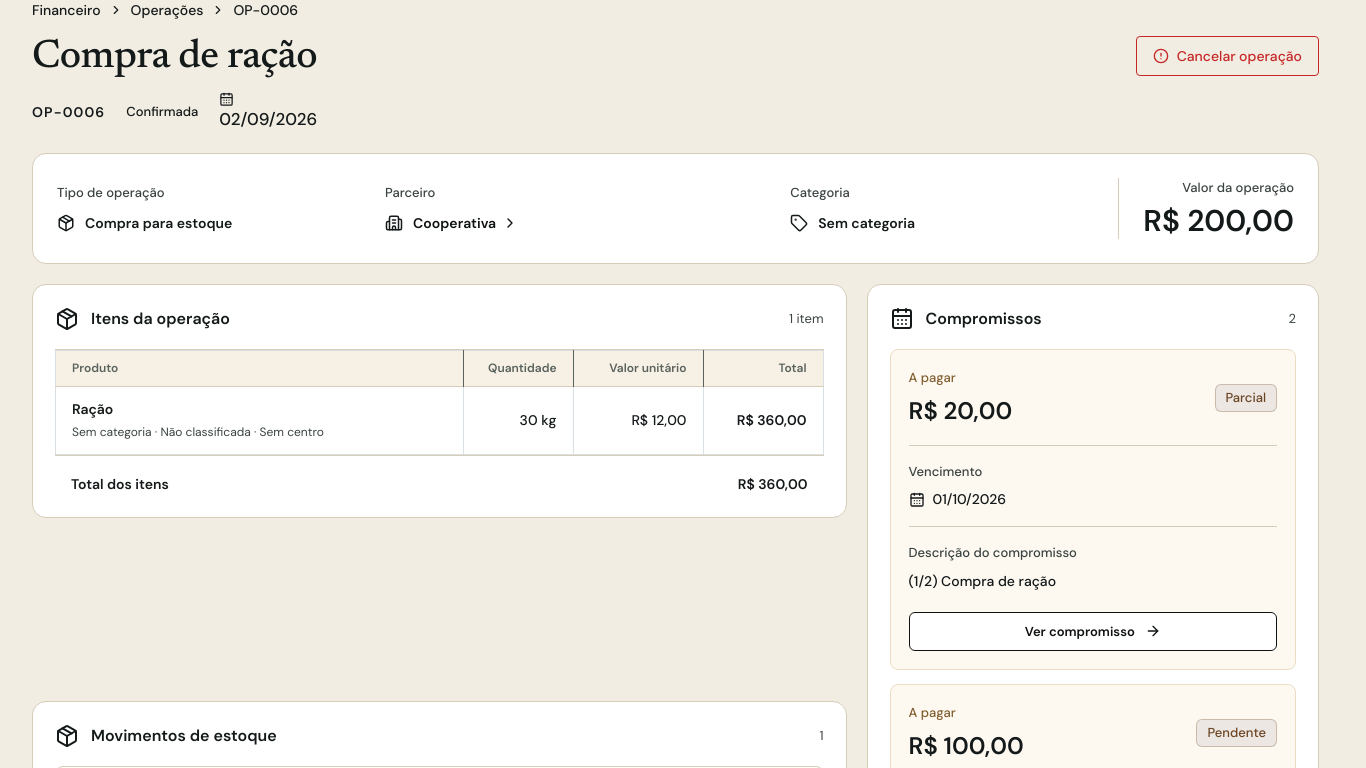
Test: OperacaoFinanceiraDetalhe — detalhe da parcela › estorna a liquidação com motivo e fecha o detalhe após recarregar
Expected: the heading "Compra de ração" is shown, x1=32 y1=38 x2=317 y2=78
Click the button "(1/2) Compra de ração" at (1093, 510), box x1=890 y1=349 x2=1296 y2=670
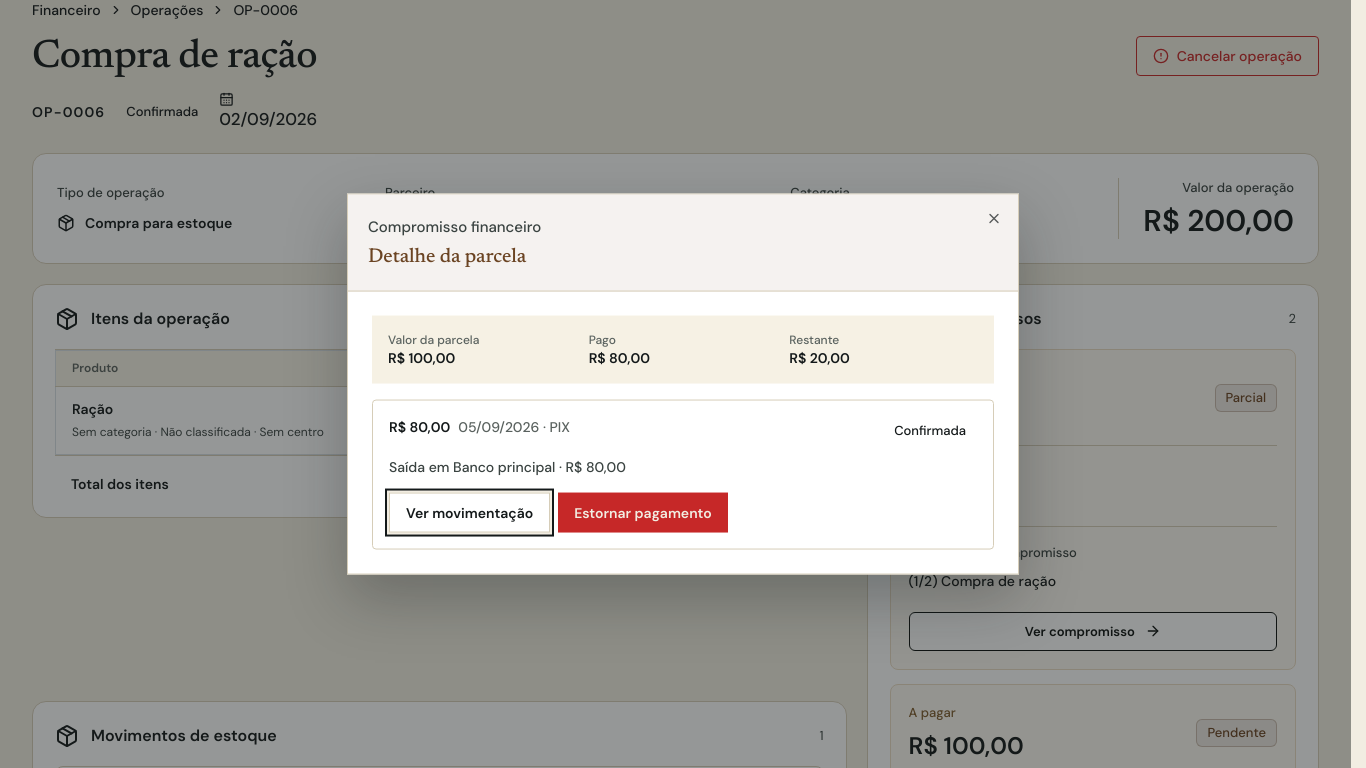
Click the button "Estornar pagamento" at (643, 512), box x1=558 y1=492 x2=728 y2=532
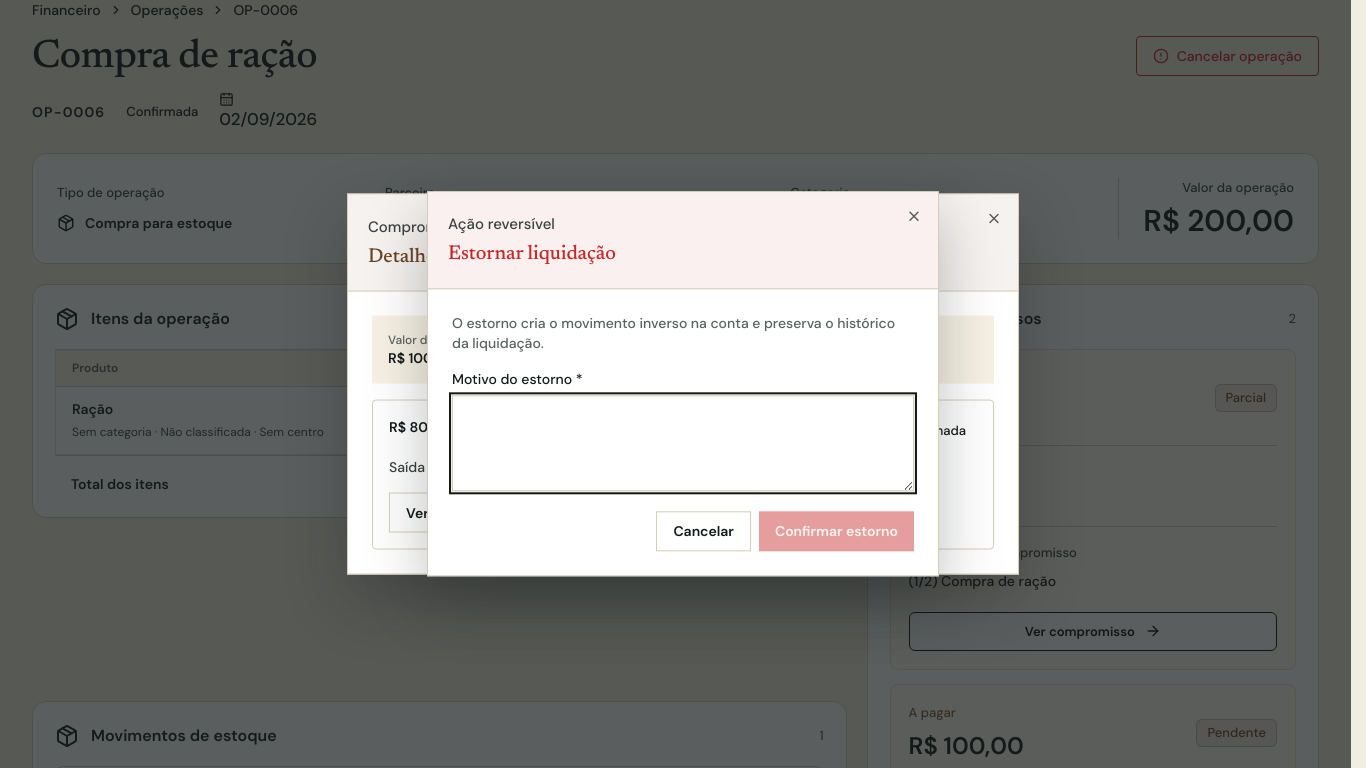
Expected: the button "Confirmar estorno" is disabled, x1=759 y1=512 x2=914 y2=552
Type "Pagamento em duplicidade" into the text box labelled "Motivo do estorno" at (683, 444), box x1=452 y1=396 x2=914 y2=492
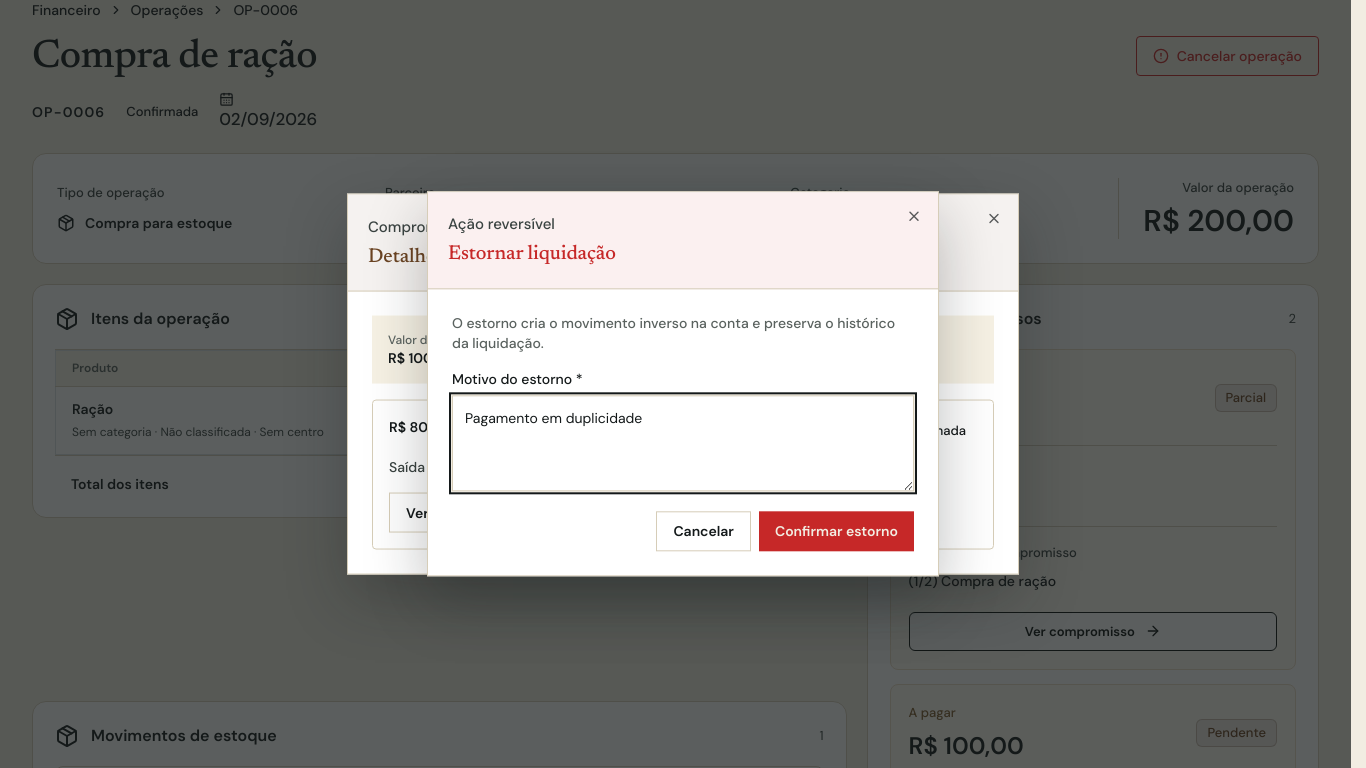
Click the button "Confirmar estorno" at (836, 532), box x1=759 y1=512 x2=914 y2=552
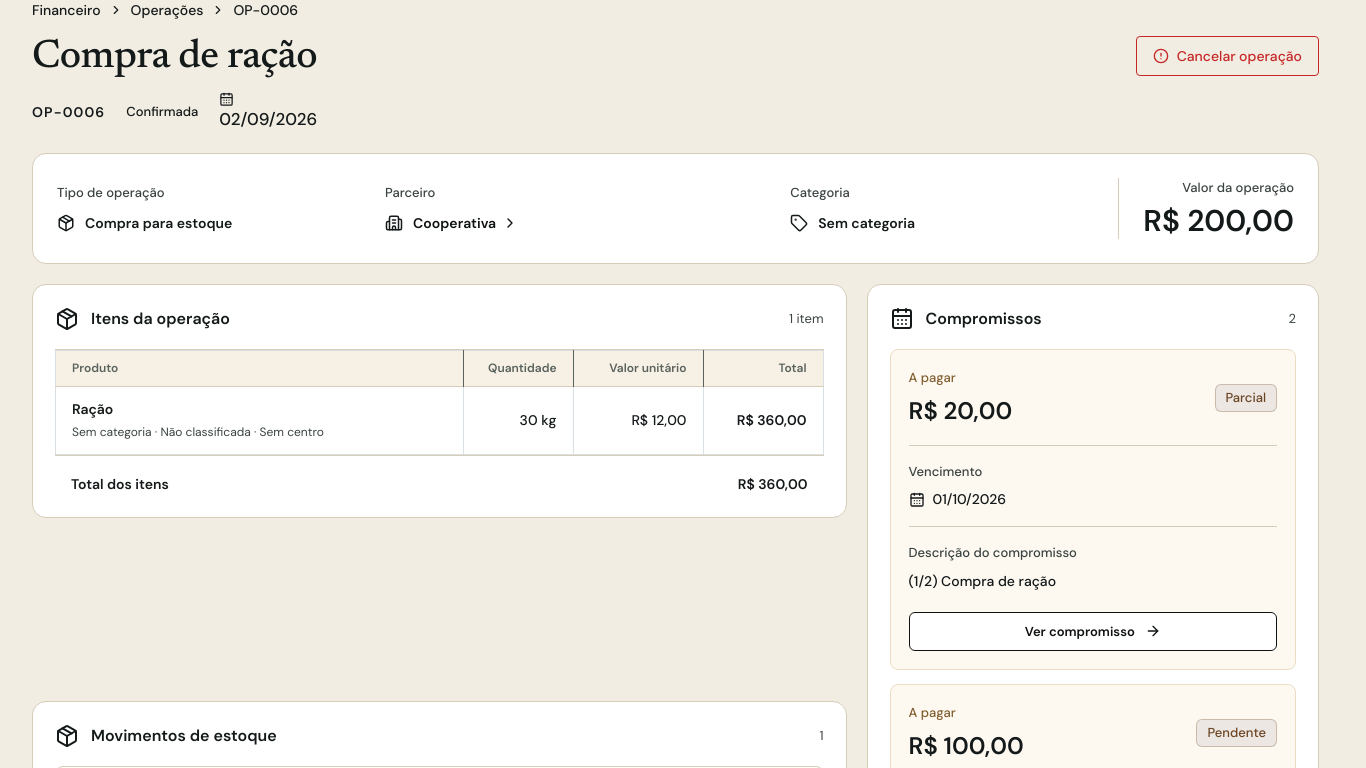
Expected: the heading "Detalhe da parcela" is gone
